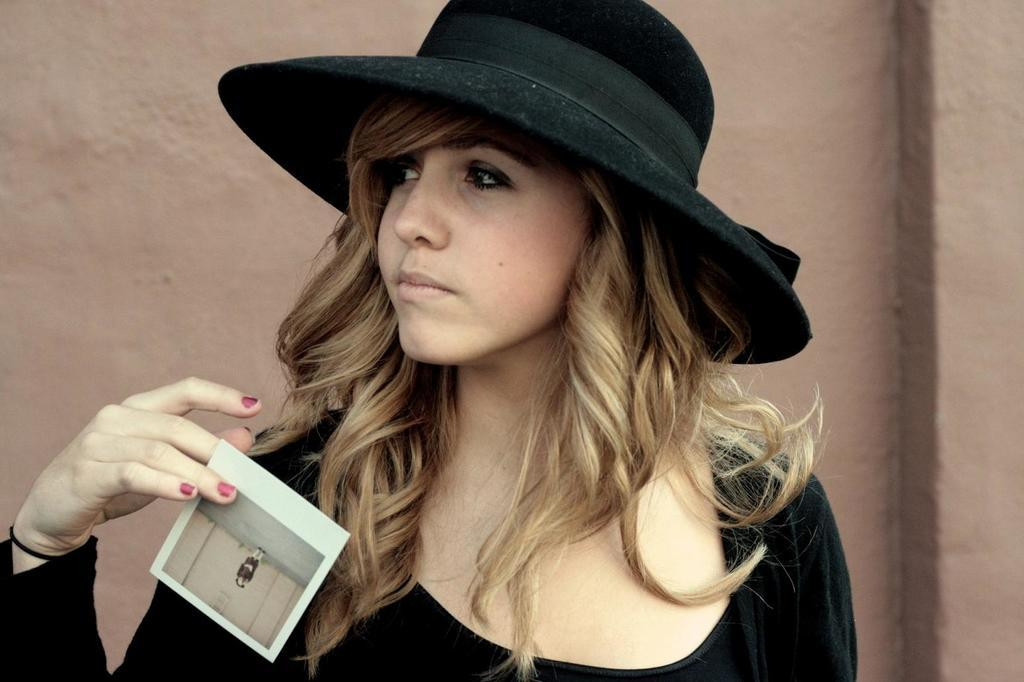Hat: (216, 0, 812, 362)
